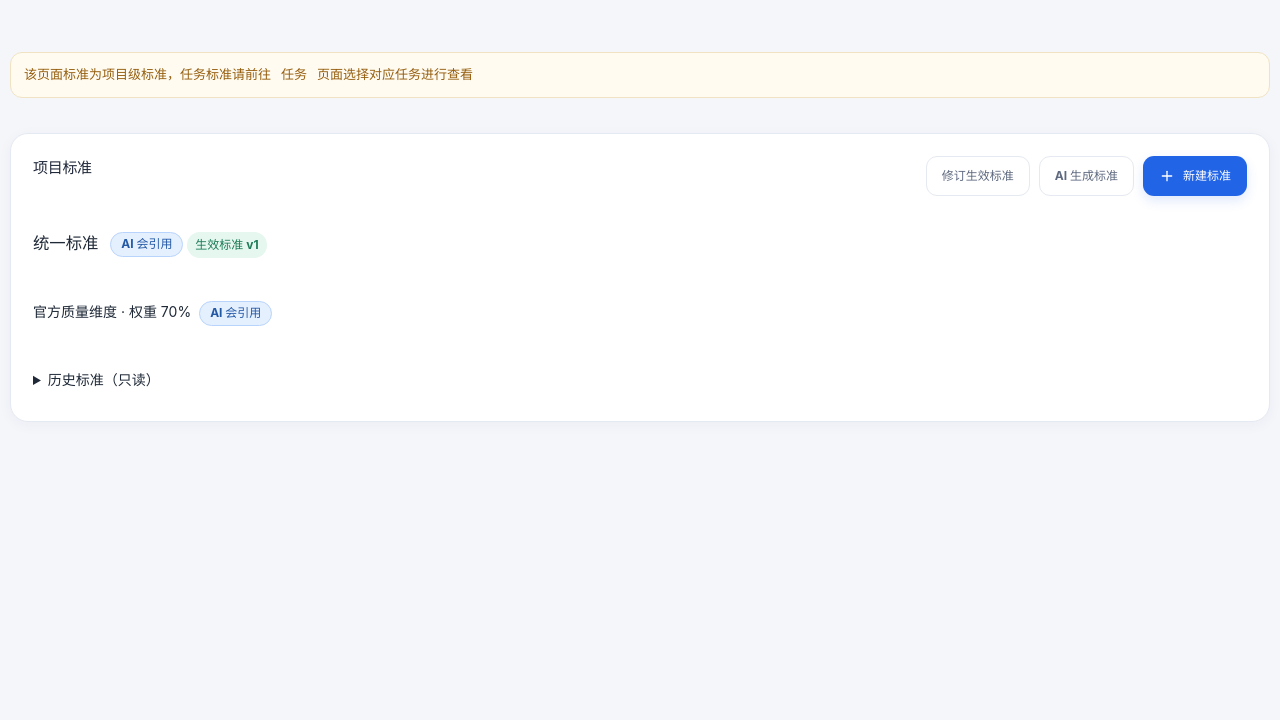
Test case: keeps existing standards visible and blocks editing them while generation runs
Click the button "AI 生成标准" at (1086, 176), box [1039,156,1134,196]
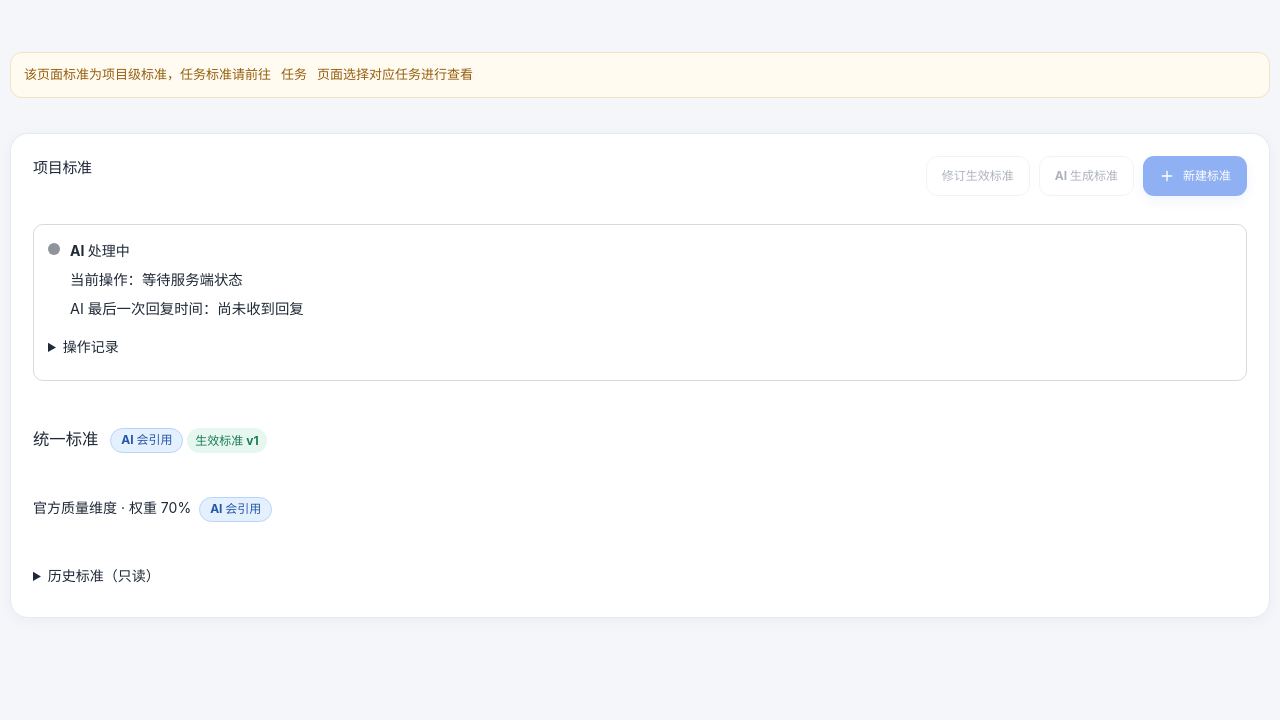
Expected: the button "修订生效标准" is disabled, [926,156,1030,196]
Expected: the button "新建标准" is disabled, [1143,156,1247,196]
